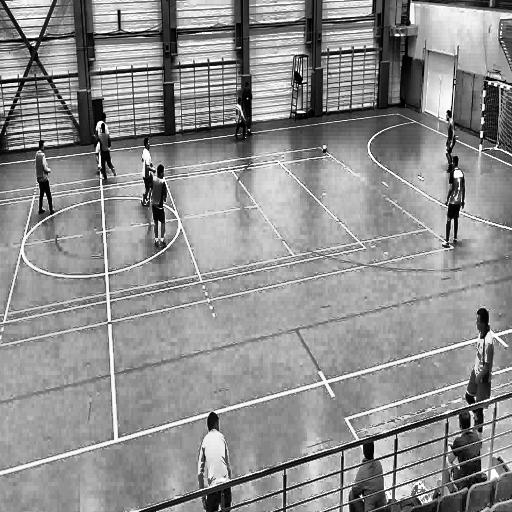ball: (321, 143, 329, 155)
player: (464, 305, 492, 449), (198, 410, 233, 512), (442, 155, 467, 253), (146, 166, 170, 252), (34, 140, 57, 217), (94, 124, 121, 185), (138, 130, 155, 208), (442, 107, 458, 171), (94, 112, 110, 171), (240, 81, 254, 140), (235, 95, 247, 143)
